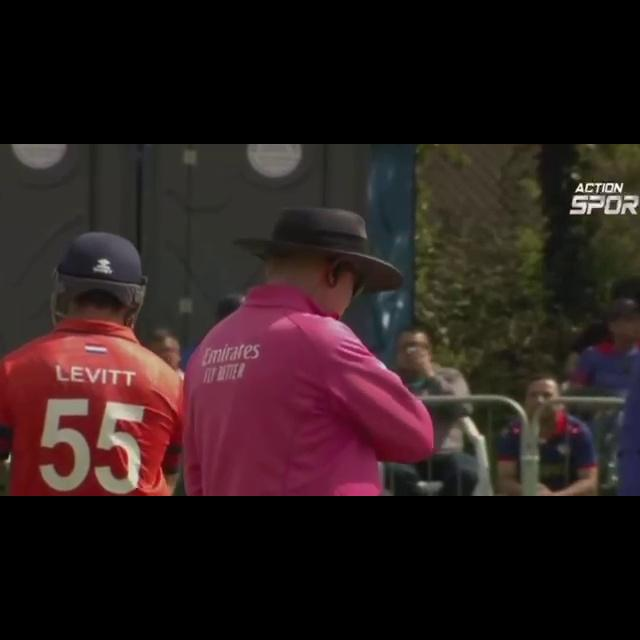umpire: (172, 191, 467, 496)
